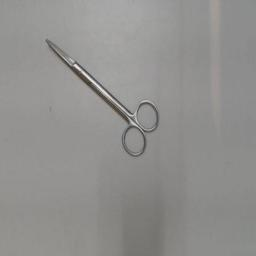Curved Mayo Scissors: (42, 34, 162, 160)
